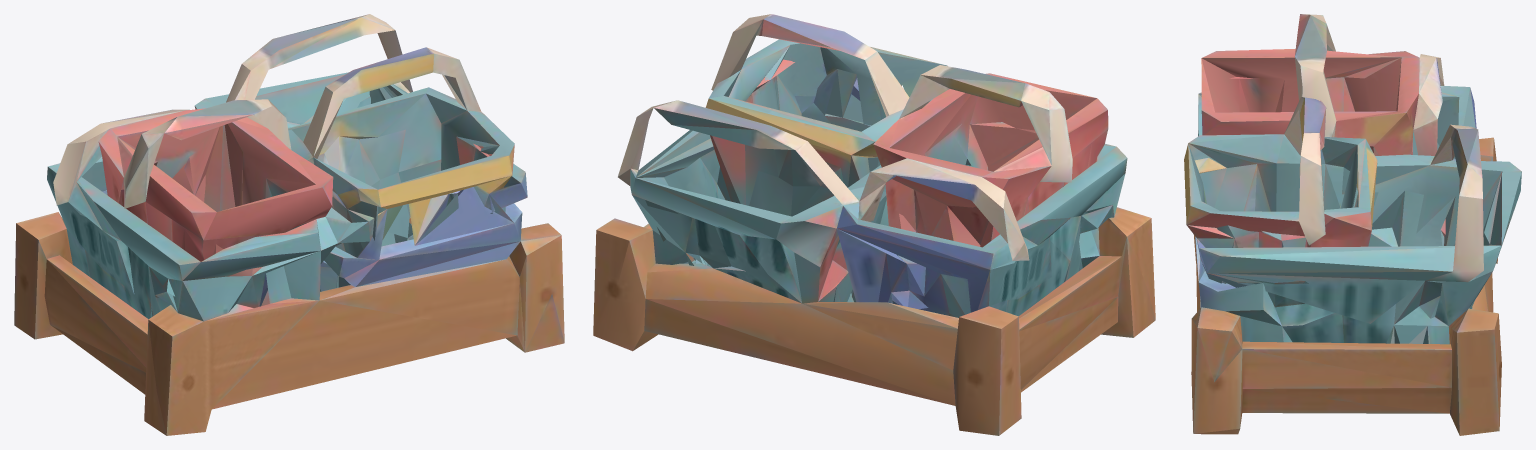
The model's file is shop-basket-stand.glb.
3 renders of one model, left to right at view 1: azimuth 30°, elevation 25°; view 2: azimuth 150°, elevation 25°; view 3: azimuth 270°, elevation 25°, orthographic. The views are drawn at different scales.
Parts seen in each view (by area): view 1: shop-basket-stand-fit; view 2: shop-basket-stand-fit; view 3: shop-basket-stand-fit.
Boxes of the visible parts, x1,y1,x2,y2 form: shop-basket-stand-fit: (14, 14, 564, 435); shop-basket-stand-fit: (593, 14, 1155, 435); shop-basket-stand-fit: (1184, 14, 1521, 435).
Size of the model in its own units: 1.71 by 1.1 by 1.25.
Materials: 1 (1 with a texture image).
